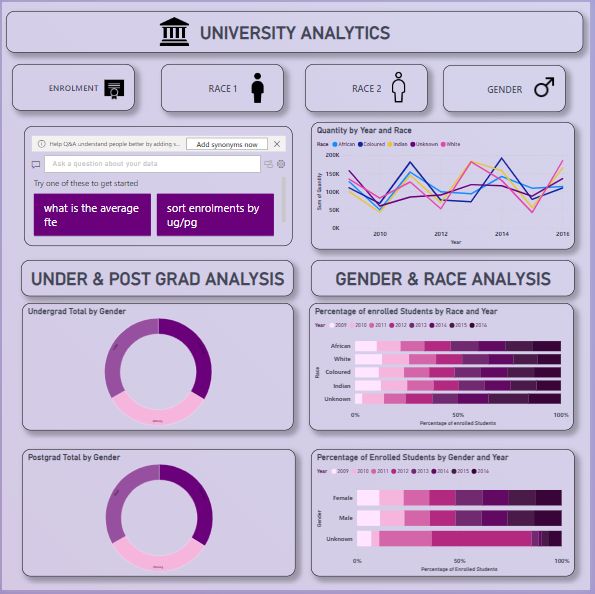

Layout of this report page (visuals, bound fields, positions):
{"tool":"powerbi","page":{"name":"Dashboard","canvas":[1200,1200],"ordinal":0},"visuals":[{"type":"shape","box":[8.3,18.3,1178.3,85],"z":0},{"type":"shape","box":[38,526,556,74],"z":1000},{"type":"shape","box":[630,526,538,74],"z":2000},{"type":"qnaVisual","box":[45,252.5,547.5,245],"z":3000},{"type":"Sunburst1445472000808","title":"Postgrad Total by Gender","fields":{"Nodes":["Gender.Gender"],"Values":["Sum(Enrolments.PG TOTAL)"]},"box":[40,912.5,557.5,260],"z":4000},{"type":"Sunburst1445472000808","title":"Undergrad Total by Gender","fields":{"Values":["Sum(Enrolments.UG TOTAL)"],"Nodes":["Gender.Gender"]},"box":[40,614,554,260],"z":5000},{"type":"lineChart","title":"Quantity by Year and Race","fields":{"Y":["Sum(Enrolments.Quantity)"],"Series":["Race.Race"],"Category":["Race.Year"]},"box":[630,245,537.5,260],"z":6000},{"type":"hundredPercentStackedBarChart","title":"Percentage of Enrolled Students by Gender and Year","fields":{"Y":["Sum(Gender.Quantity)"],"Category":["Gender.Gender"],"Series":["Gender.Year"]},"box":[630,912.5,537.5,260],"z":7000},{"type":"actionButton","box":[900,128,250,96],"z":8000},{"type":"actionButton","box":[20,126.7,250,95],"z":9000},{"type":"actionButton","box":[617.5,127,250,97.5],"z":10000},{"type":"actionButton","box":[325,127,250,97.5],"z":11000},{"type":"image","box":[315,17.5,75,85],"z":12000},{"type":"hundredPercentStackedBarChart","title":"Percentage of  enrolled Students by Race and Year","fields":{"Y":["Sum(Race.Quantity)"],"Category":["Race.Race"],"Series":["Race.Year"]},"box":[627.5,615,540,260],"z":13000},{"type":"image","box":[205,130,50,95],"z":13001},{"type":"image","box":[480,136.7,83.3,78.3],"z":13002},{"type":"image","box":[770,135,80,78.3],"z":13003},{"type":"image","box":[1078.3,145,58.3,58.3],"z":13004}]}

Visuals, with their boxes in screenshot pixels (x1, y1, x2, y2), scaled from the page's 1200x1200 canvas onto the 595x594 screenshot:
shape: (x1=4, y1=9, x2=588, y2=51)
shape: (x1=19, y1=260, x2=295, y2=297)
shape: (x1=312, y1=260, x2=579, y2=297)
qnaVisual: (x1=22, y1=125, x2=294, y2=246)
"Postgrad Total by Gender" Sunburst1445472000808: (x1=20, y1=452, x2=296, y2=580)
"Undergrad Total by Gender" Sunburst1445472000808: (x1=20, y1=304, x2=295, y2=433)
"Quantity by Year and Race" lineChart: (x1=312, y1=121, x2=579, y2=250)
"Percentage of Enrolled Students by Gender and Year" hundredPercentStackedBarChart: (x1=312, y1=452, x2=579, y2=580)
actionButton: (x1=446, y1=63, x2=570, y2=111)
actionButton: (x1=10, y1=63, x2=134, y2=110)
actionButton: (x1=306, y1=63, x2=430, y2=111)
actionButton: (x1=161, y1=63, x2=285, y2=111)
image: (x1=156, y1=9, x2=193, y2=51)
"Percentage of  enrolled Students by Race and Year" hundredPercentStackedBarChart: (x1=311, y1=304, x2=579, y2=433)
image: (x1=102, y1=64, x2=126, y2=111)
image: (x1=238, y1=68, x2=279, y2=106)
image: (x1=382, y1=67, x2=421, y2=106)
image: (x1=535, y1=72, x2=564, y2=101)
